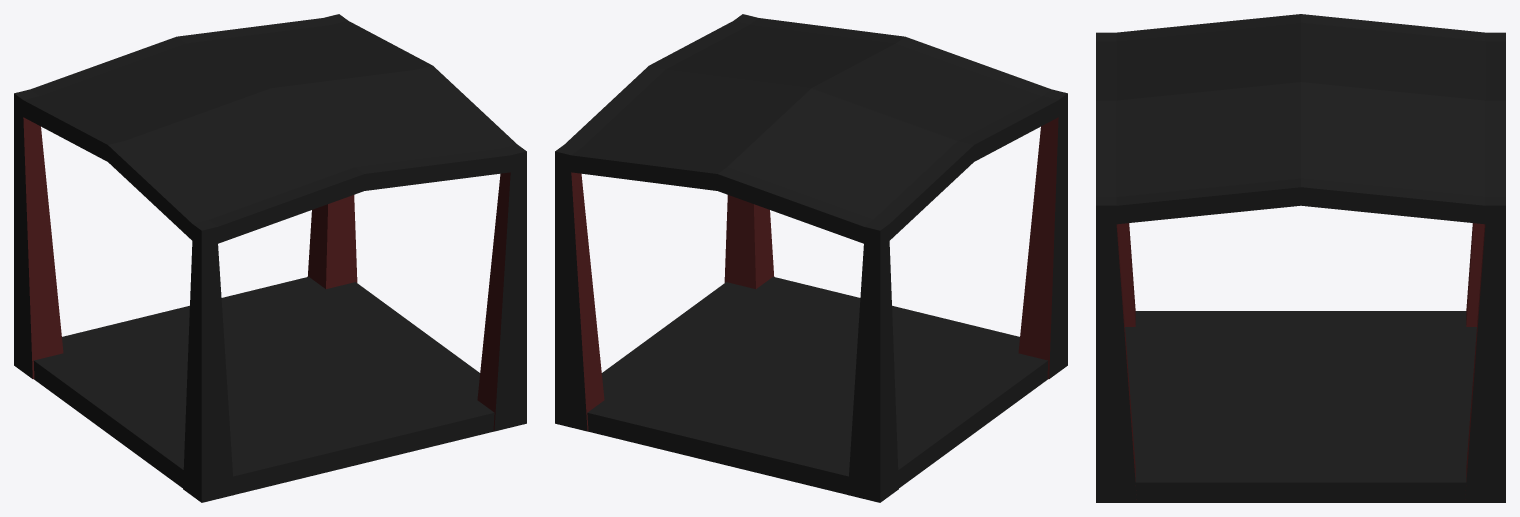
Rendered from 4WayIntersection.fbx.
The picture shows the model from 3 angles, left to right: view 1: azimuth 30°, elevation 25°; view 2: azimuth 150°, elevation 25°; view 3: azimuth 270°, elevation 25°; orthographic projection. The views are drawn at different scales.
Parts seen in each view (by area): view 1: Walls, Floors; view 2: Walls, Floors; view 3: Walls, Floors.
Part boxes in pixels (bbox=[...]): Walls: bbox=[14, 14, 526, 502]; Floors: bbox=[33, 276, 494, 494]; Walls: bbox=[555, 14, 1067, 502]; Floors: bbox=[587, 276, 1048, 494]; Walls: bbox=[1096, 14, 1505, 502]; Floors: bbox=[1125, 311, 1476, 502].
Bounding box in the file's own units: 20 × 18.05 × 20.
Materials: 2 (1 with a texture image).
